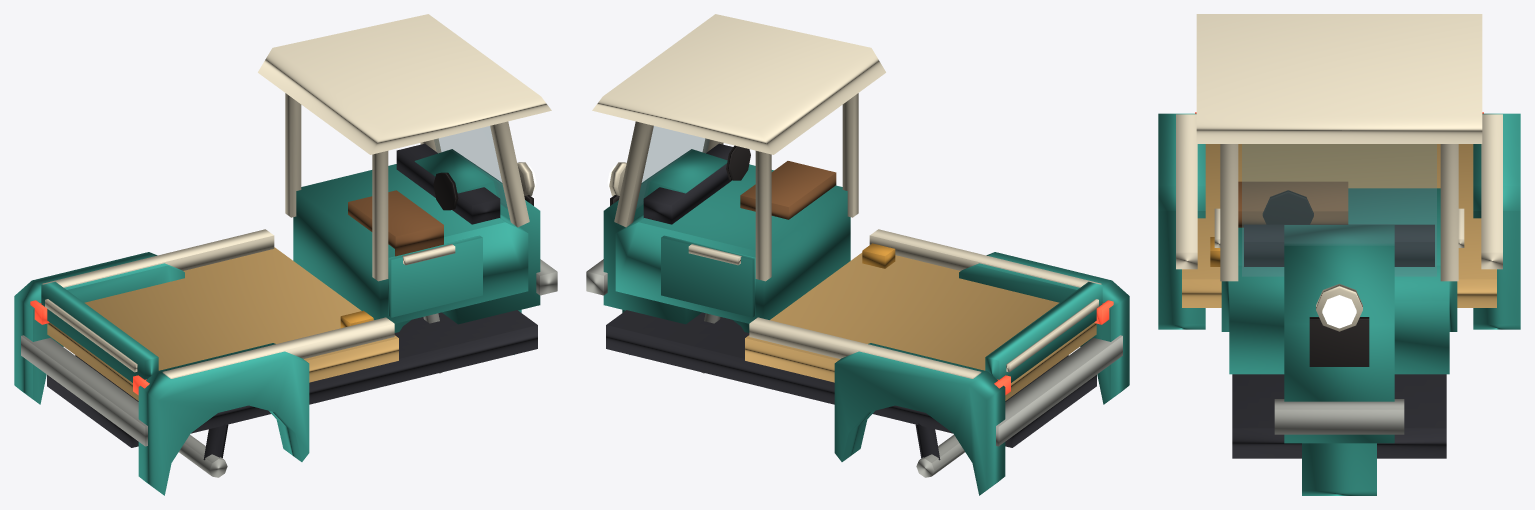
File: truck_tuktuk_lod1.glb
The picture shows the model from 3 angles, left to right: view 1: azimuth 30°, elevation 25°; view 2: azimuth 150°, elevation 25°; view 3: azimuth 270°, elevation 25°; orthographic projection. The views are drawn at different scales.
Visible parts, largest first — view 1: Ladder frame, Stamped half-door.001, Tailgate, Windscreen, Axle shaft; view 2: Ladder frame, Tailgate, Windscreen, Axle shaft, Rolled cargo strap; view 3: Ladder frame, Windscreen, Headlamp lens, Stamped half-door.001.
Part boxes in pixels (box(x1,y1,x2,y2)): Ladder frame: box(14, 14, 557, 495); Stamped half-door.001: box(388, 235, 482, 317); Tailgate: box(41, 281, 158, 382); Windscreen: box(434, 126, 507, 208); Axle shaft: box(179, 423, 228, 477); Ladder frame: box(586, 14, 1129, 495); Tailgate: box(985, 281, 1102, 382); Windscreen: box(636, 126, 709, 208); Axle shaft: box(915, 423, 964, 477); Rolled cargo strap: box(862, 243, 895, 268); Ladder frame: box(1158, 14, 1520, 495); Windscreen: box(1242, 144, 1436, 276); Headlamp lens: box(1322, 295, 1356, 328); Stamped half-door.001: box(1214, 208, 1229, 331).
Size of the model in its own units: 3.34 by 2.18 by 1.84.
